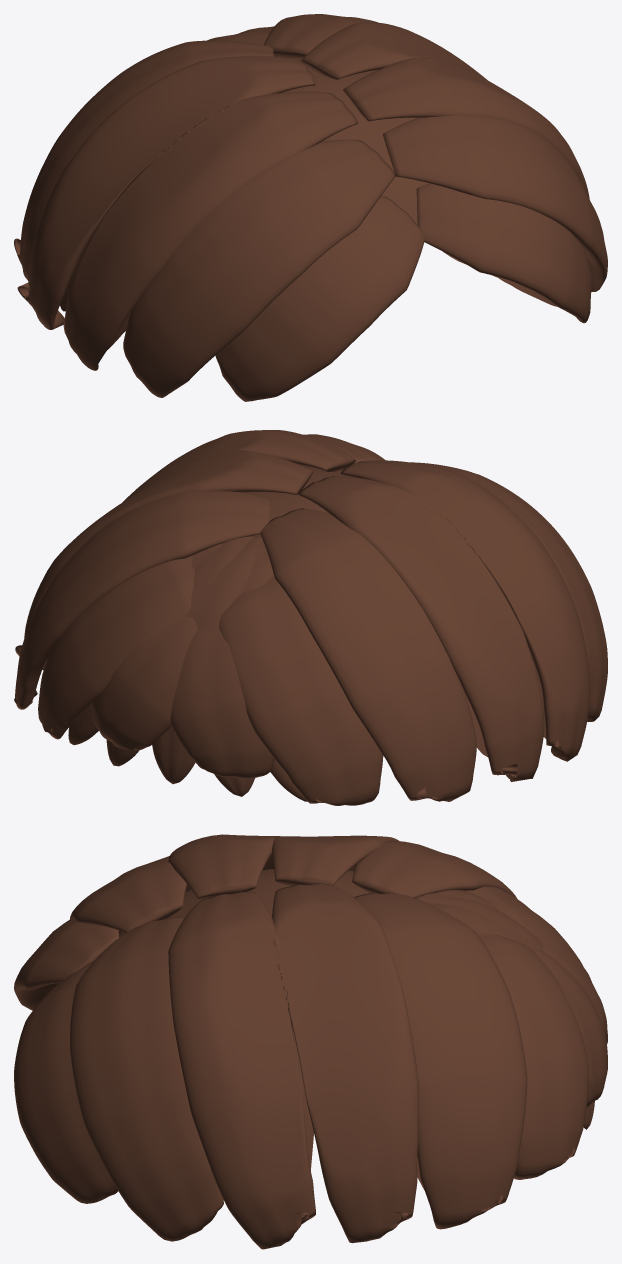
The model's file is Masculine-Masculine-middle-part-pashmina261-hair-cacd18e8.glb.
3 renders of one model, top to bottom at view 1: azimuth 30°, elevation 25°; view 2: azimuth 150°, elevation 25°; view 3: azimuth 270°, elevation 25°, orthographic. The views are drawn at different scales.
Parts seen in each view (by area): view 1: 226 hair / Hair260 / layered middle-part; view 2: 226 hair / Hair260 / layered middle-part; view 3: 226 hair / Hair260 / layered middle-part.
Part boxes in pixels (bbox=[...]): 226 hair / Hair260 / layered middle-part: bbox=[14, 14, 607, 401]; 226 hair / Hair260 / layered middle-part: bbox=[14, 430, 607, 805]; 226 hair / Hair260 / layered middle-part: bbox=[14, 834, 607, 1249].
Size of the model in its own units: 0.8253 by 0.3797 by 0.7909.
